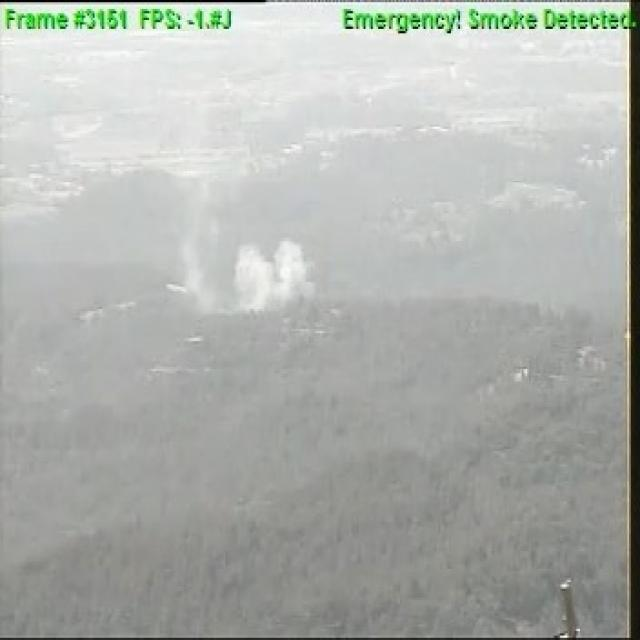smoke: (182, 223, 319, 308)
